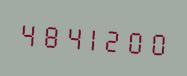eight: (38, 16, 58, 53)
four: (17, 14, 37, 52), (59, 17, 79, 54)
one: (80, 19, 100, 56)
two: (101, 20, 121, 57)
zero: (122, 22, 142, 59), (143, 23, 163, 60)
